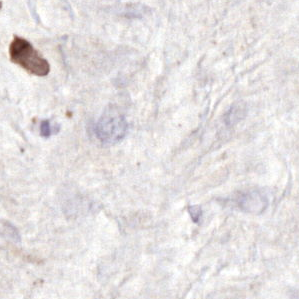Lymphocyte: (10, 36, 50, 76)
